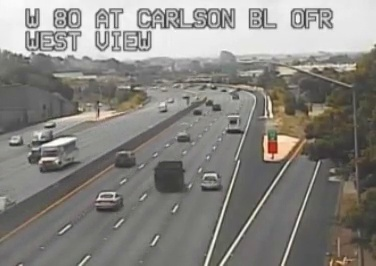bus: (227, 115, 241, 132)
car: (94, 191, 121, 210), (114, 151, 136, 168), (201, 172, 220, 191)
small-truck: (153, 161, 183, 192)
